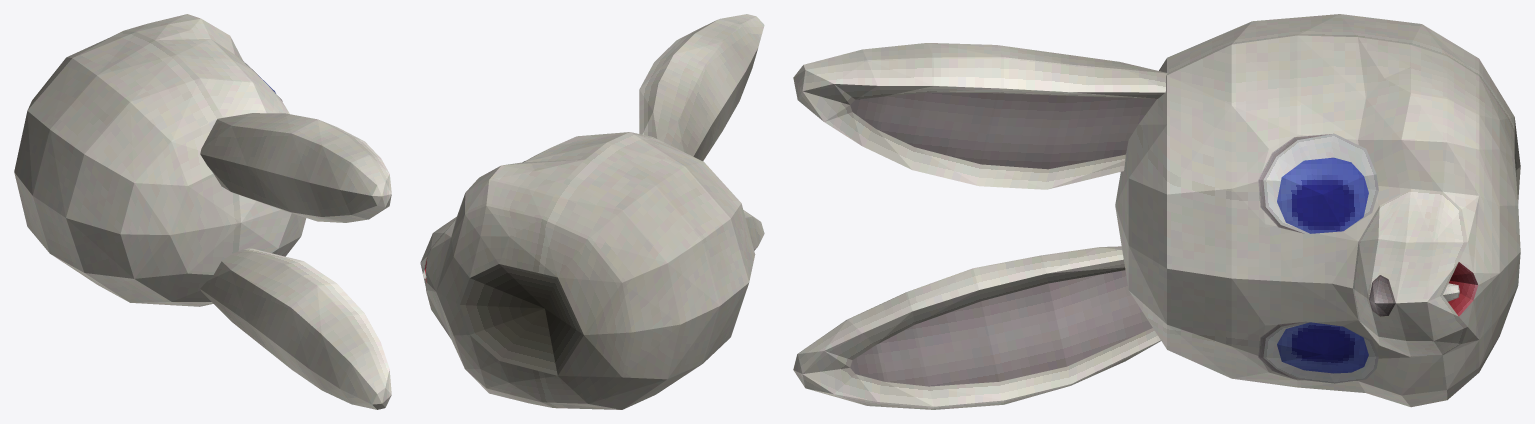
File: options408.obj
3 views of the same model, side by side, from view 1: azimuth 30°, elevation 25°; view 2: azimuth 150°, elevation 25°; view 3: azimuth 270°, elevation 25° (orthographic). The views are drawn at different scales.
Visible parts, largest first — view 1: options408; view 2: options408; view 3: options408.
Part boxes in pixels (x1,y1,x2,y2): options408: [14, 14, 391, 409]; options408: [420, 14, 764, 409]; options408: [793, 14, 1520, 409].
Size of the model in its own units: 0.6687 by 0.59 by 1.1.
1 material, 1 textured.
